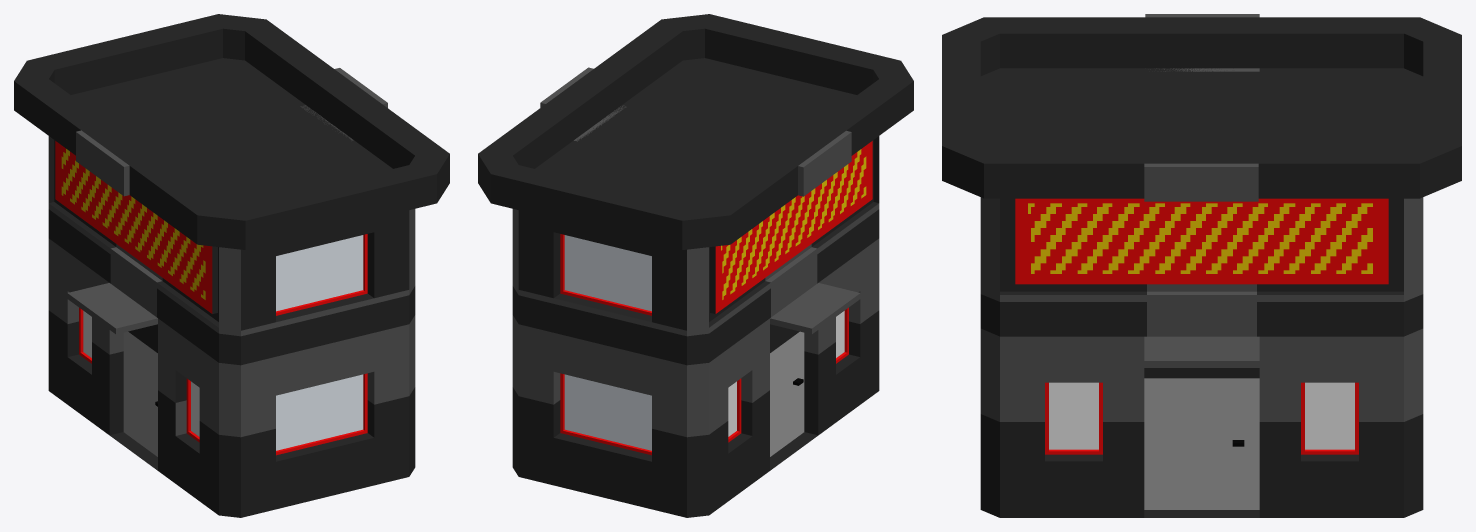
Rendered from Edificio 24.fbx.
3 views of the same model, side by side, from view 1: azimuth 30°, elevation 25°; view 2: azimuth 150°, elevation 25°; view 3: azimuth 270°, elevation 25° (orthographic). The views are drawn at different scales.
Parts seen in each view (by area): view 1: [6268], Pared 2 [6306], Pared 1 [6500], [6223], Pared 1 [6249]; view 2: [6268], Pared 2 [6303], Pared 1 [6500], [6223], Pared 1 [6249]; view 3: Pared 1 [6249], [6268], [6223], Pared 1 [6500], Pared 2 [6303], Pared 2 [6306].
Boxes of the visible parts, left/top/right/bottom form: [6268]: left=14, top=14, right=449, bottom=330; Pared 2 [6306]: left=219, top=210, right=415, bottom=517; Pared 1 [6500]: left=48, top=130, right=218, bottom=515; [6223]: left=110, top=315, right=415, bottom=517; Pared 1 [6249]: left=240, top=61, right=391, bottom=168; [6268]: left=478, top=14, right=913, bottom=330; Pared 2 [6303]: left=512, top=210, right=708, bottom=517; Pared 1 [6500]: left=709, top=130, right=879, bottom=515; [6223]: left=512, top=315, right=817, bottom=517; Pared 1 [6249]: left=535, top=61, right=686, bottom=169; Pared 1 [6249]: left=1000, top=163, right=1403, bottom=517; [6268]: left=942, top=17, right=1461, bottom=294; [6223]: left=980, top=328, right=1423, bottom=517; Pared 1 [6500]: left=1000, top=14, right=1403, bottom=71; Pared 2 [6303]: left=1404, top=287, right=1423, bottom=336; Pared 2 [6306]: left=980, top=287, right=999, bottom=336.
Bounding box in the file's own units: 394 × 531 × 418.
